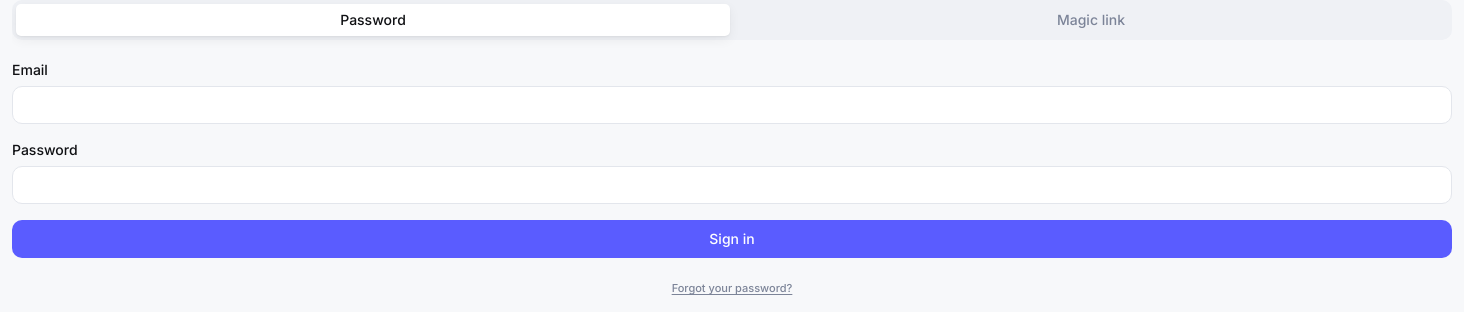
sign-in form › a forgotten password has a way out of the sign-in screen
Click the button "Forgot your password?" at [732, 288], box top-left (12, 281), bottom-right (1452, 296)
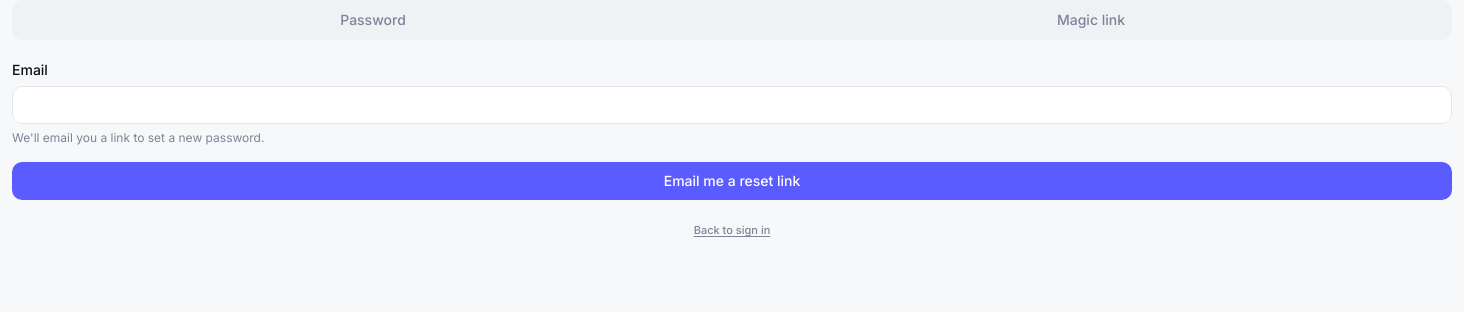
Expected: the field labelled "Email" is shown, top-left (12, 86), bottom-right (1452, 124)
Now the form named "request a password reset" is shown, box top-left (12, 60), bottom-right (1452, 240)
